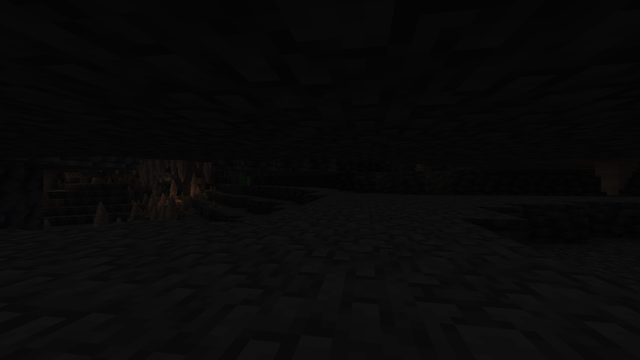slimes: (239, 176, 249, 185)
